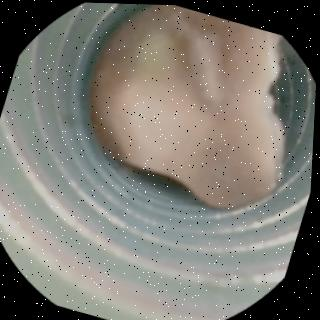stone: (94, 3, 285, 204)
